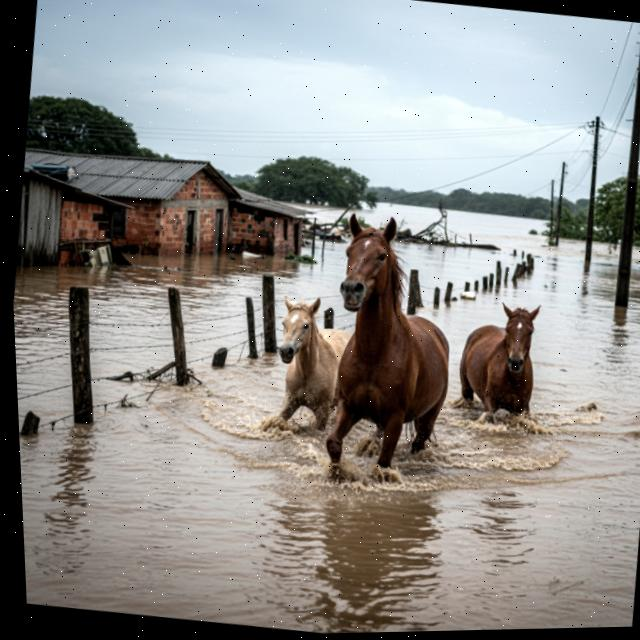horse: (297, 203, 481, 489), (251, 289, 372, 434), (443, 291, 561, 430)
